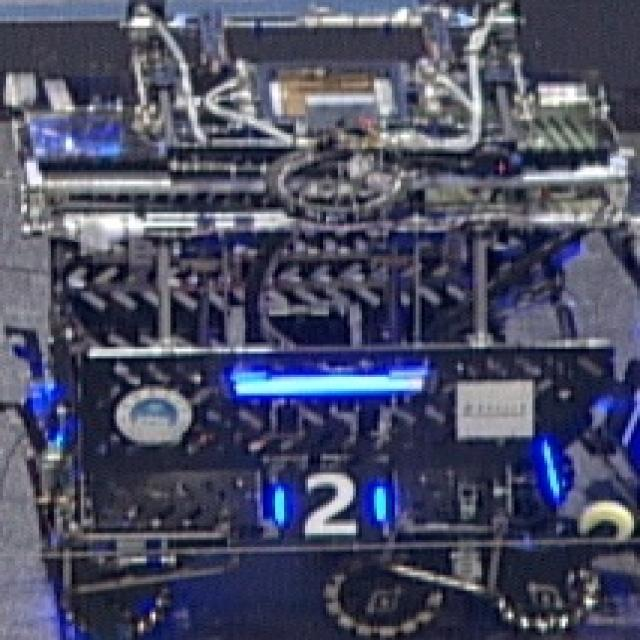B2: (265, 465, 402, 540)
